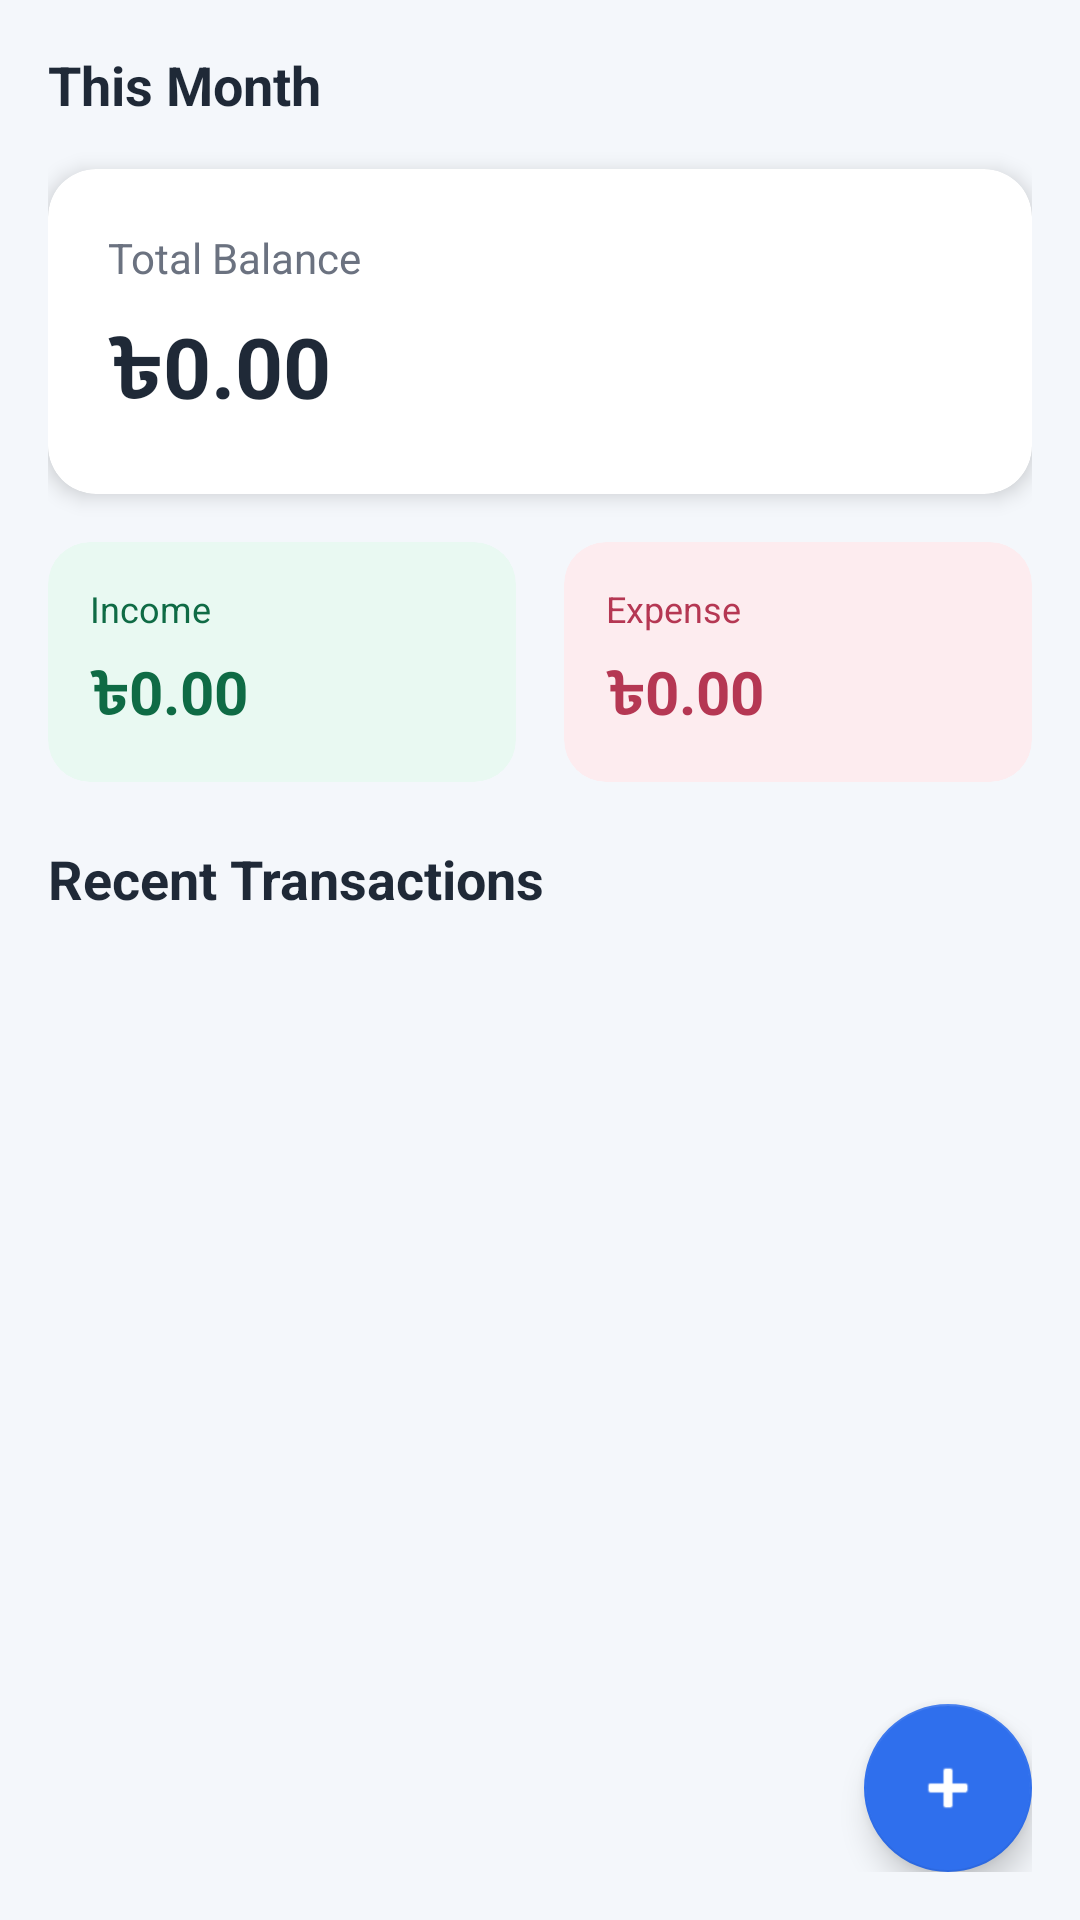

Screen size 1080 × 1920. Icon name, then its center in pixels as (x,y):
Add Entry: (948,1788)
